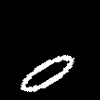chain: (21, 55, 73, 91)
